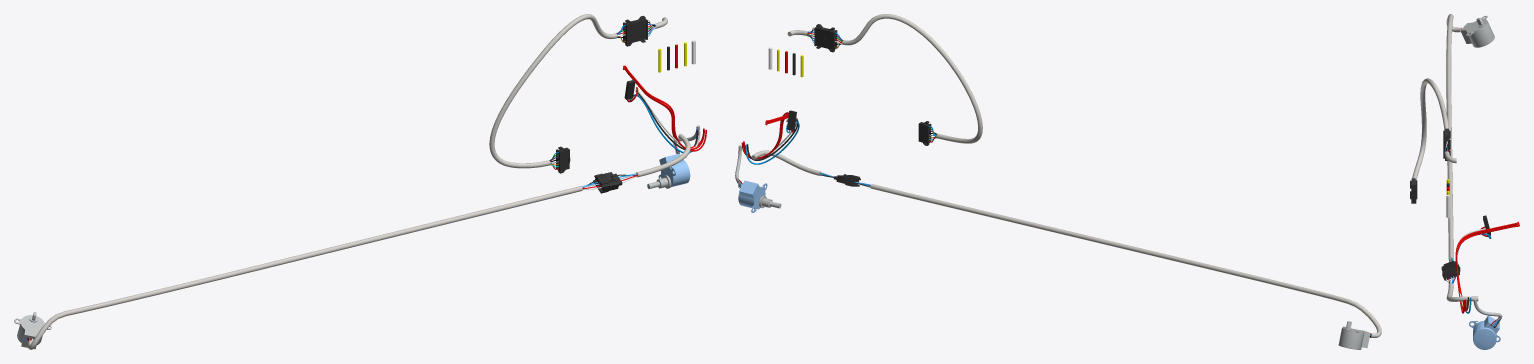
The model's file is Split wiresV 03.fbx.
3 renders of one model, left to right at view 1: azimuth 30°, elevation 25°; view 2: azimuth 150°, elevation 25°; view 3: azimuth 270°, elevation 25°, orthographic. The views are drawn at different scales.
Parts seen in each view (by area): view 1: 17-Motor Tawgeh ra2see, 15-Screen control_B, 16*Motor Mowageh Ofoky, Object086, 11-Wire 03; view 2: 17-Motor Tawgeh ra2see, 15-Screen control_B, 16*Motor Mowageh Ofoky, Object086; view 3: 17-Motor Tawgeh ra2see, 15-Screen control_B, 16*Motor Mowageh Ofoky, Object086, 11-Wire 03, 11-Wire 01, Object051, Object056, Object070, Object082, Object037.
Part boxes in pixels (<box>): 17-Motor Tawgeh ra2see: <box>28,186,582,349</box>; 15-Screen control_B: <box>489,14,617,168</box>; 16*Motor Mowageh Ofoky: <box>647,153,690,188</box>; Object086: <box>14,315,51,349</box>; 11-Wire 03: <box>623,65,706,151</box>; 17-Motor Tawgeh ra2see: <box>870,184,1381,337</box>; 15-Screen control_B: <box>842,14,982,143</box>; 16*Motor Mowageh Ofoky: <box>738,180,781,212</box>; Object086: <box>1338,326,1370,349</box>; 17-Motor Tawgeh ra2see: <box>1446,14,1484,261</box>; 15-Screen control_B: <box>1412,78,1449,180</box>; 16*Motor Mowageh Ofoky: <box>1469,315,1500,349</box>; Object086: <box>1460,15,1494,47</box>; 11-Wire 03: <box>1455,221,1519,313</box>; 11-Wire 01: <box>1446,283,1478,301</box>; Object051: <box>1441,260,1460,280</box>; Object056: <box>1410,178,1417,203</box>; Object070: <box>1473,298,1502,319</box>; Object082: <box>1443,135,1450,160</box>; Object037: <box>1446,194,1450,217</box>.
Size of the model in its own units: 91.22 by 27.79 by 13.36.
3 materials, 2 textured.
